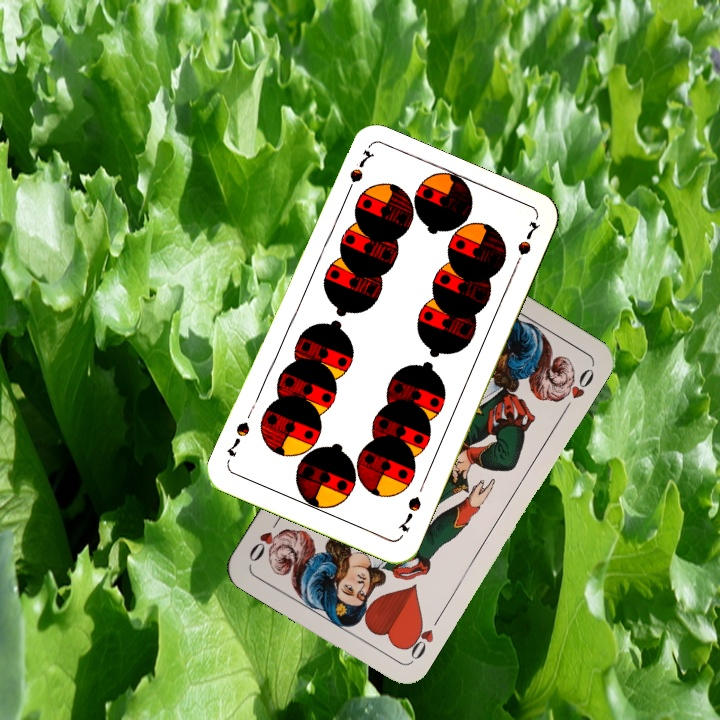HO: (400, 611, 444, 664)
S7: (340, 145, 376, 201), (394, 492, 424, 535)
